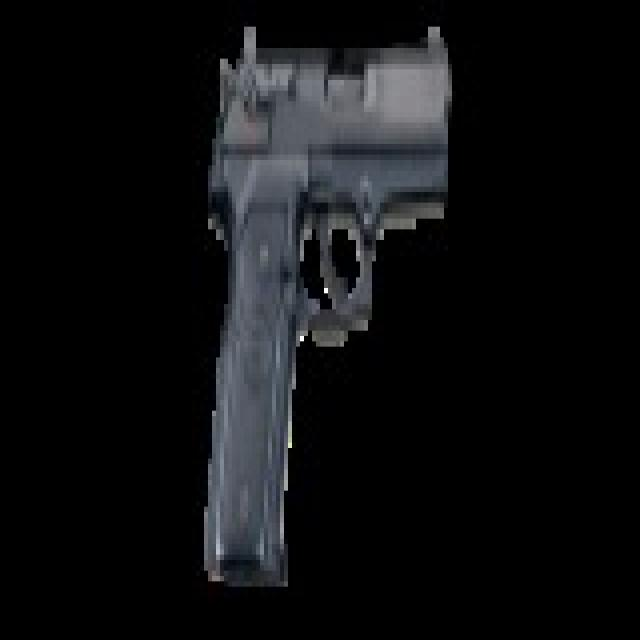Gun: (205, 47, 453, 596)
